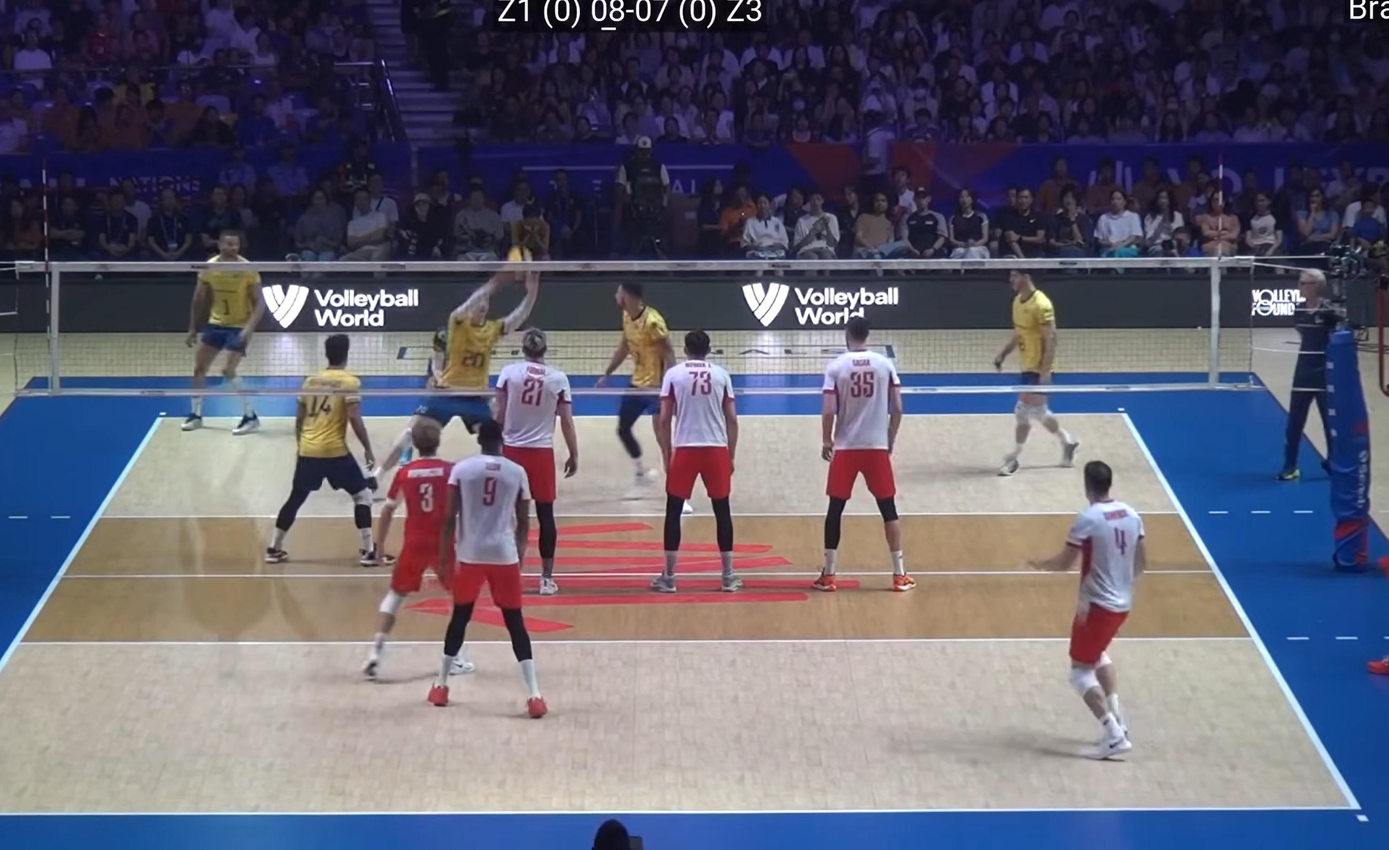alzata: (363, 237, 538, 497)
